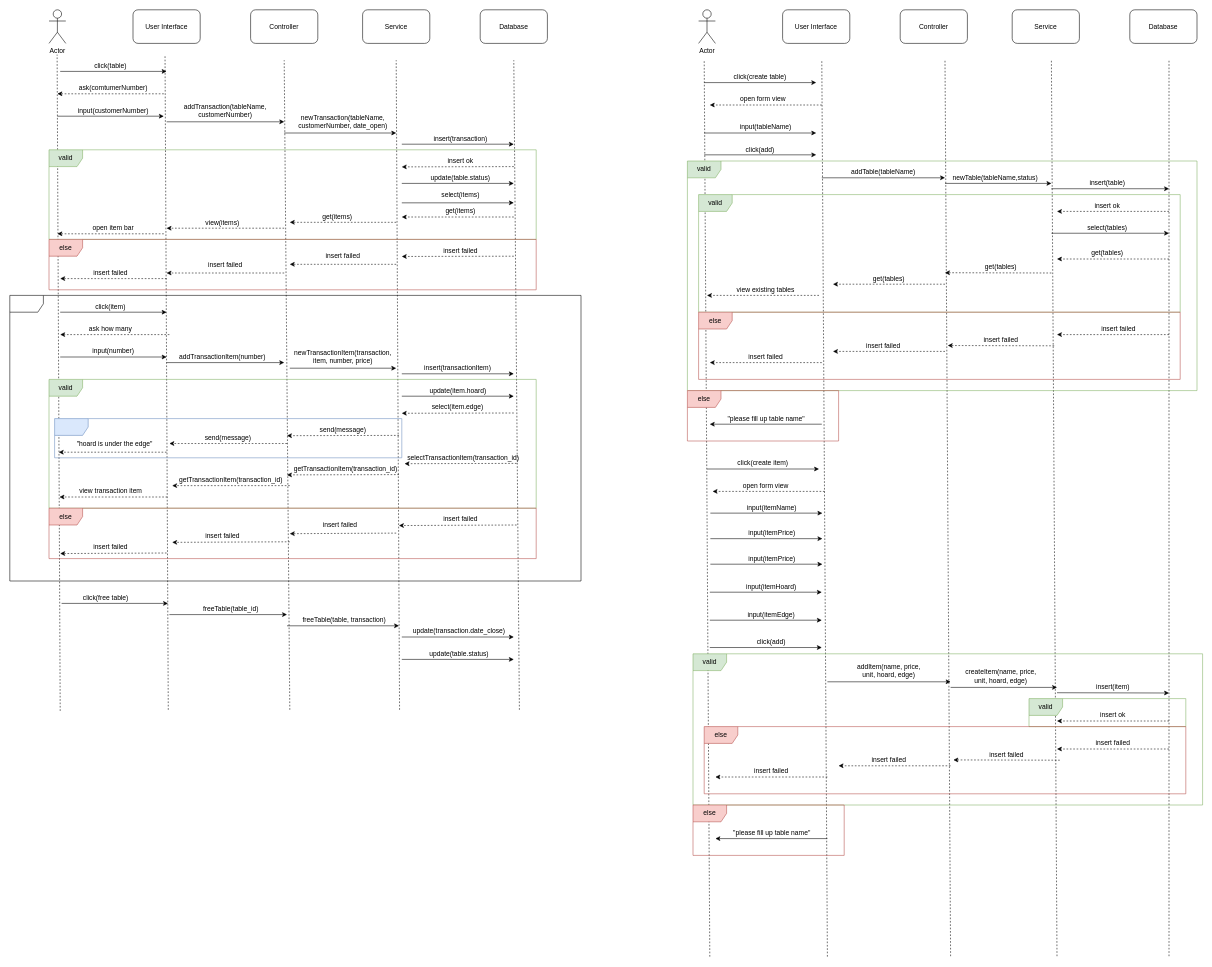
The diagram is 1212 pixels wide and 967 high, and some of its shapes have lost their labels. Each missing label, with the box of its shape:
h. < e.: (54, 418, 402, 458)
loop: (9, 295, 581, 581)
